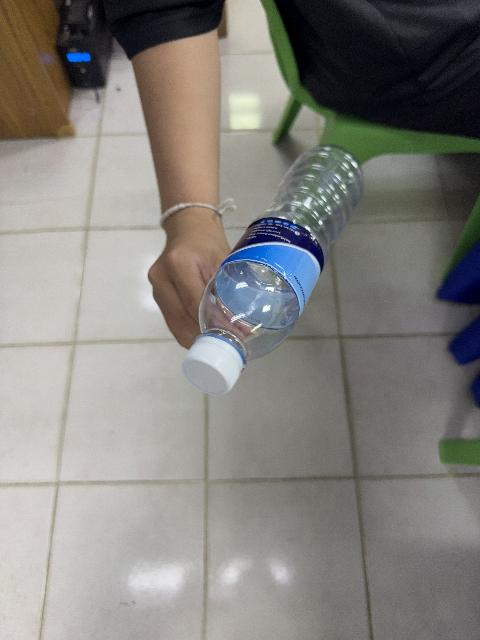bottle: (183, 146, 363, 394)
